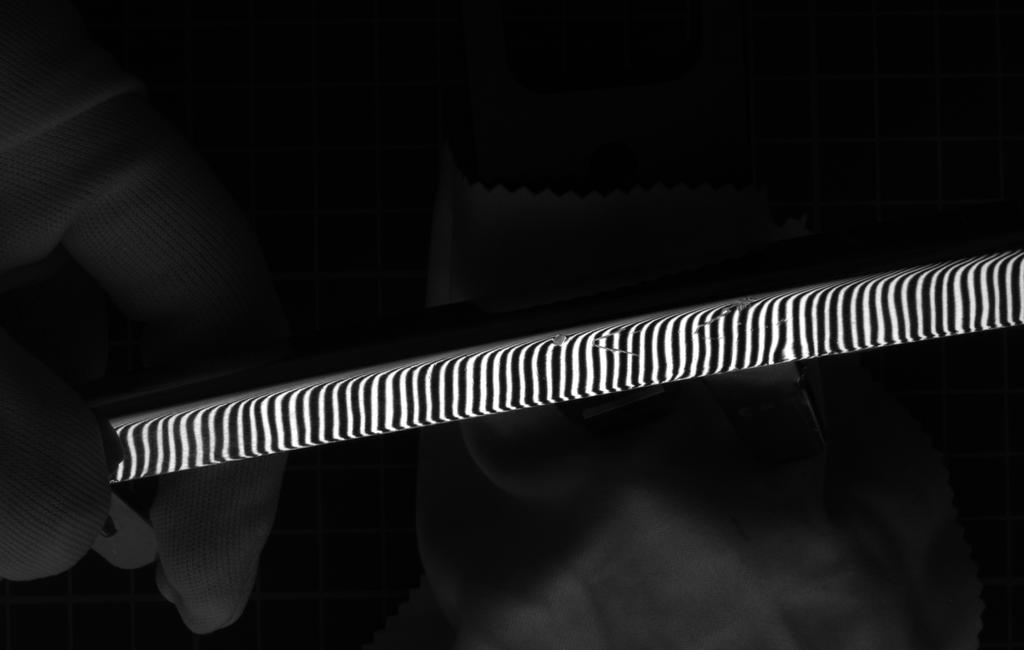Pierced: (548, 332, 573, 349)
Scratch: (686, 292, 766, 344), (587, 323, 650, 364)
